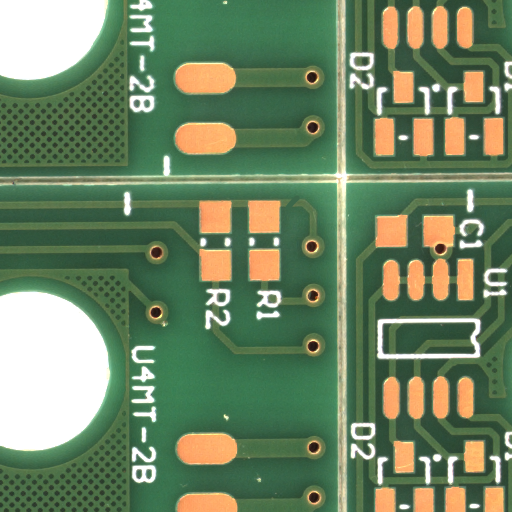Open_circuit: (292, 202, 307, 215)
